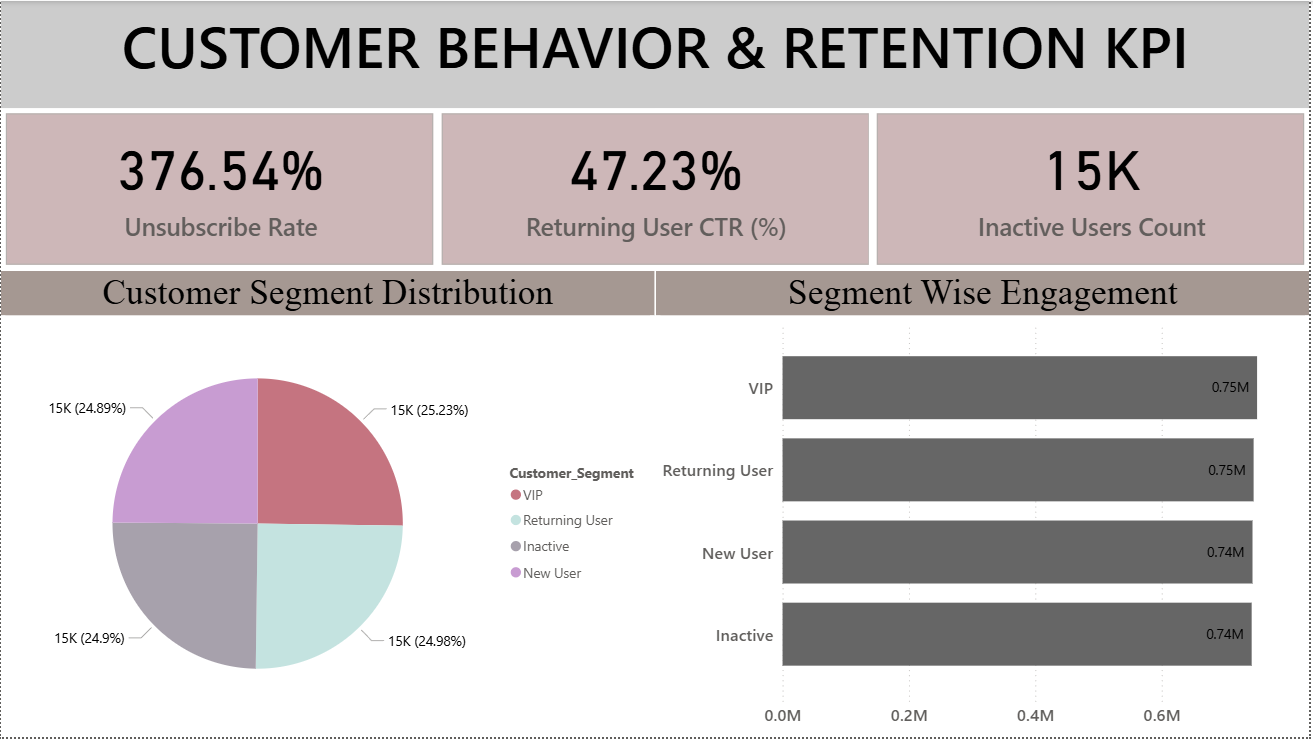

Layout of this report page (visuals, bound fields, positions):
{"tool":"powerbi","page":{"name":"Customer Behavior & Retention KPI","canvas":[1280,720],"ordinal":3},"visuals":[{"type":"textbox","box":[0,0,1280.3,105.2],"z":0},{"type":"cardVisual","fields":{"Data":["Spam Detection Email.Unsubscribe Rate","Spam Detection Email.Returning User CTR (%)","Spam Detection Email.Inactive Users Count"]},"box":[0,105.2,1280.3,159],"z":1000},{"type":"pieChart","title":"Customer Segment Distribution","fields":{"Category":["Spam Detection Email.Customer_Segment"],"Y":["Spam Detection Email.Total Email Sent"]},"box":[0,264.1,639.5,456.1],"z":2000},{"type":"clusteredBarChart","title":"Segment Wise Engagement","fields":{"Y":["Sum(Spam Detection Email.Engagement_Score)"],"Category":["Spam Detection Email.Customer_Segment"]},"box":[640.8,264.1,639.5,456.1],"z":3000}]}

Visuals, with their boxes in screenshot pixels (x1, y1, x2, y2), scaled from the page's 1280x720 canvas onto the 1313x741 screenshot:
textbox: {"left": 0, "top": 0, "right": 1312, "bottom": 108}
cardVisual - Spam Detection Email.Unsubscribe Rate x Spam Detection Email.Returning User CTR (%): {"left": 0, "top": 108, "right": 1312, "bottom": 272}
"Customer Segment Distribution" pieChart: {"left": 0, "top": 272, "right": 656, "bottom": 740}
"Segment Wise Engagement" clusteredBarChart: {"left": 657, "top": 272, "right": 1312, "bottom": 740}
